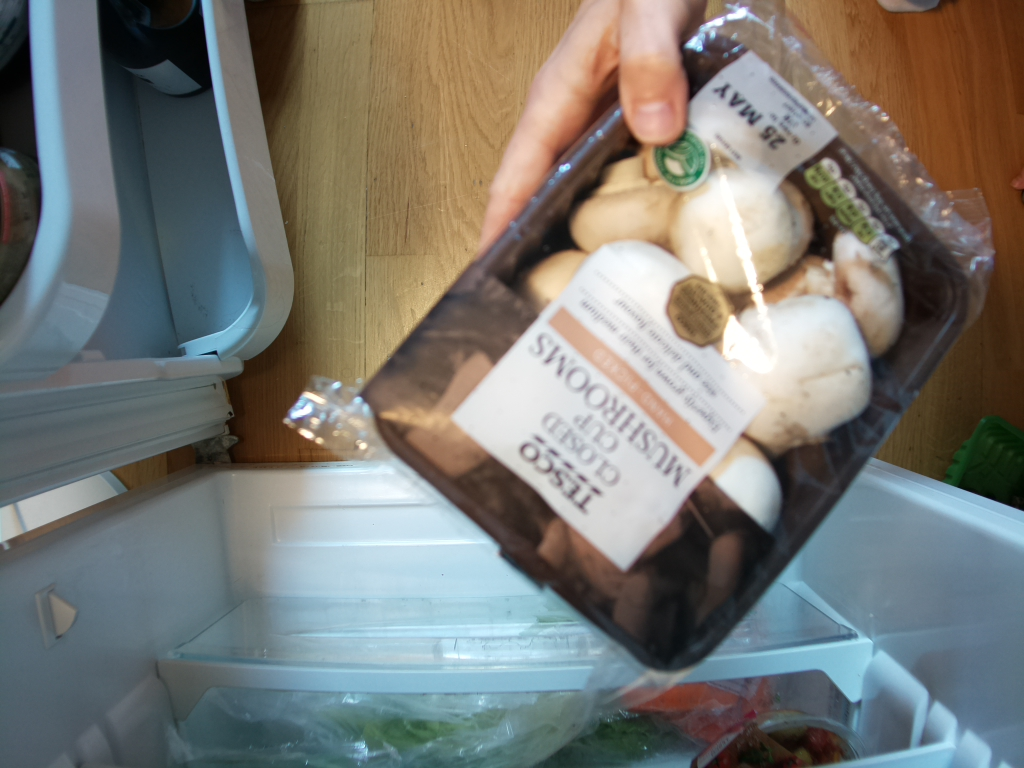mushrooms: (334, 21, 997, 681)
